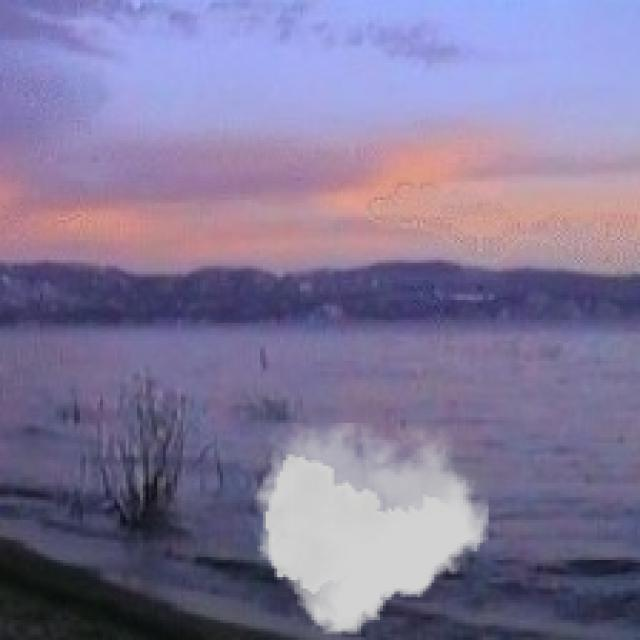smoke: (254, 423, 489, 634)
